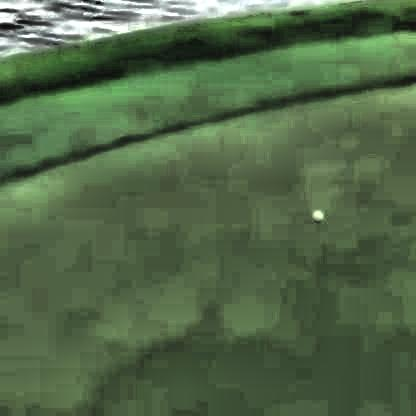golfball: (306, 208, 322, 221)
